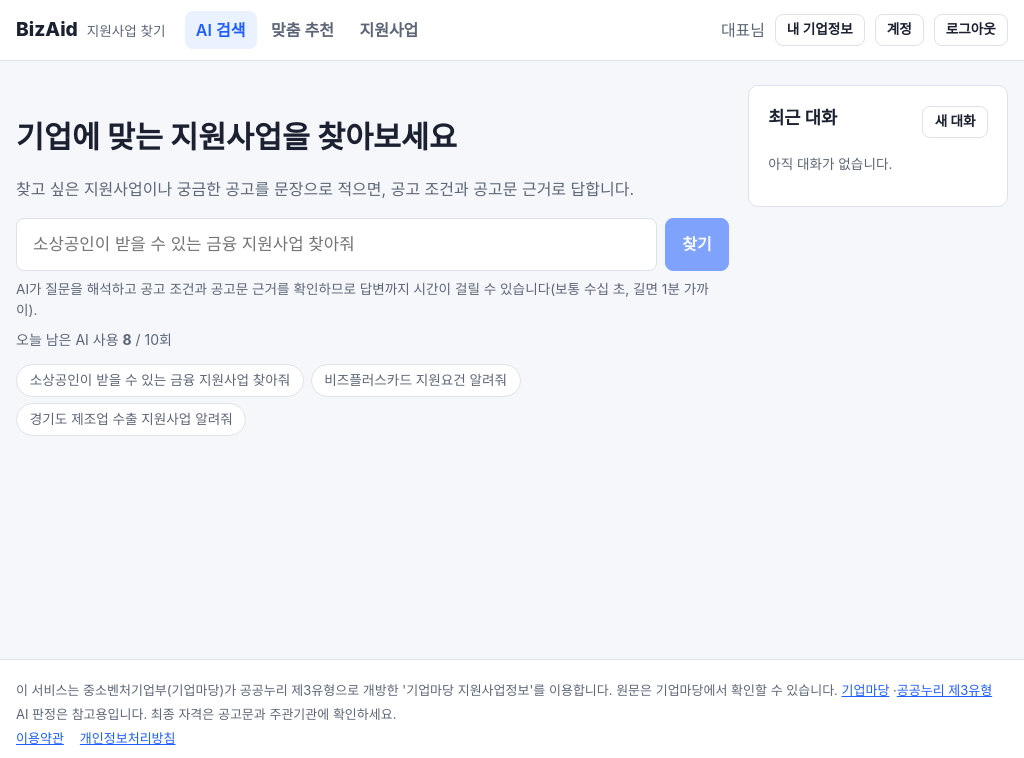
Test: SEARCH_LIST 결과를 FastAPI 순위 그대로 공고 카드로 보여 준다
Type "소상공인 금융 지원사업 찾아줘" into the field named "지원사업 질문".
click(337, 244); type("소상공인 금융 지원사업 찾아줘")  # box left=16, top=218, right=657, bottom=271
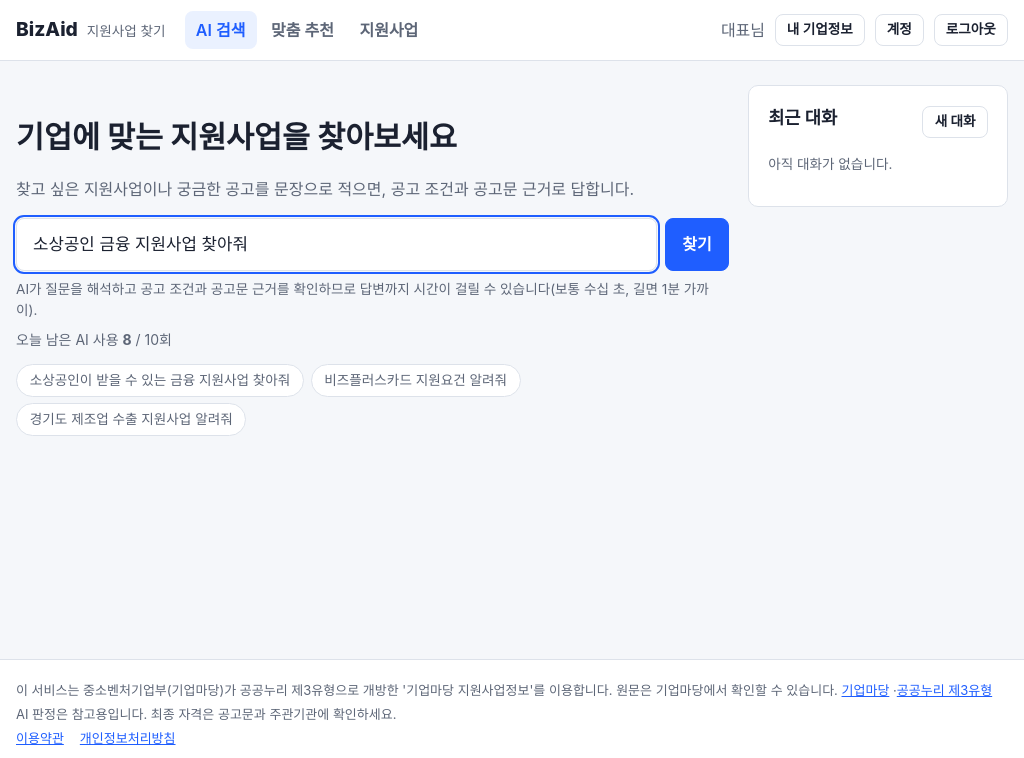
Click the button "찾기".
click(697, 244)  # box left=665, top=218, right=729, bottom=271
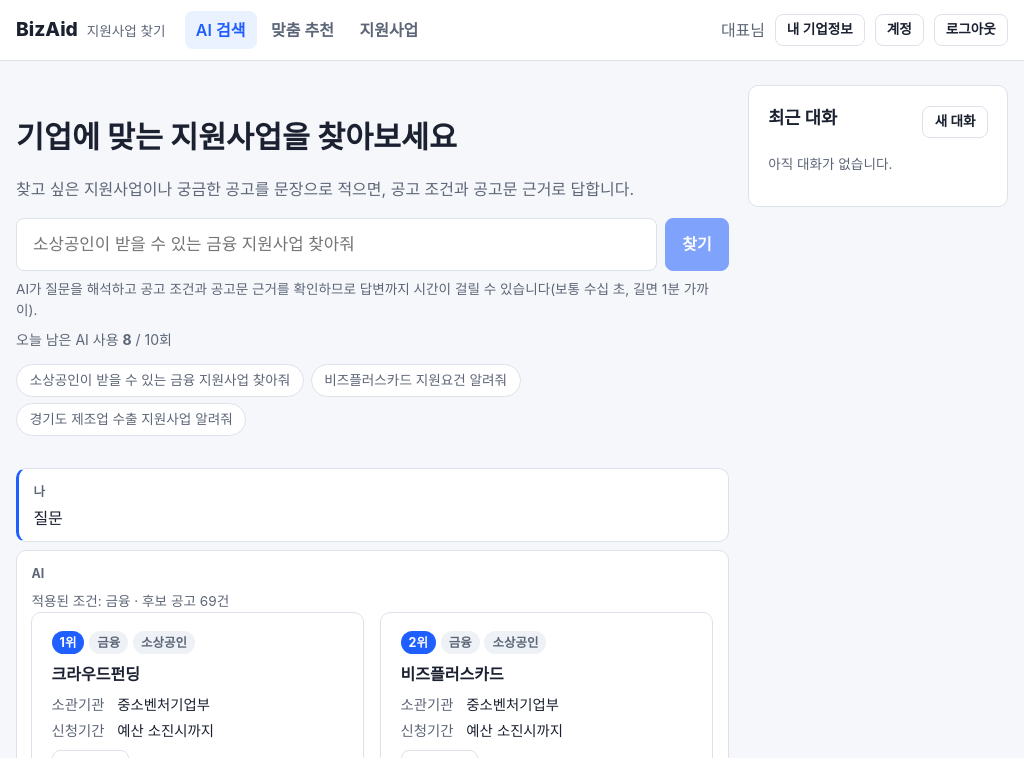
Expected: the headings read "크라우드펀딩", "비즈플러스카드", in this order, left=52, top=664, right=140, bottom=684; left=401, top=664, right=504, bottom=684
Expected: the text "적용된 조건: 금융 · 후보 공고 69건" is shown, left=31, top=593, right=229, bottom=609
